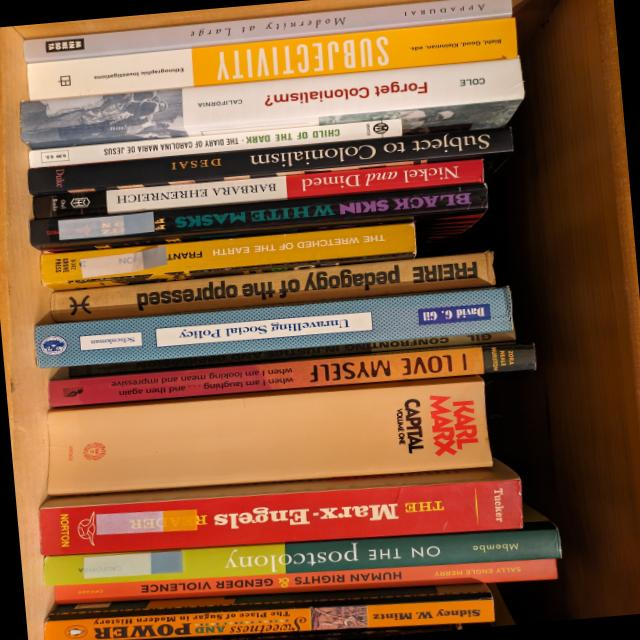book: (16, 57, 525, 168), (41, 375, 490, 498), (36, 459, 523, 557), (40, 506, 560, 590), (25, 17, 516, 103), (26, 126, 514, 212), (28, 183, 489, 271), (33, 286, 512, 369), (50, 250, 494, 325), (46, 341, 535, 408), (23, 0, 511, 64), (31, 157, 484, 221), (38, 221, 417, 292), (41, 582, 493, 640), (52, 558, 557, 605), (68, 328, 514, 380), (27, 117, 401, 169)
